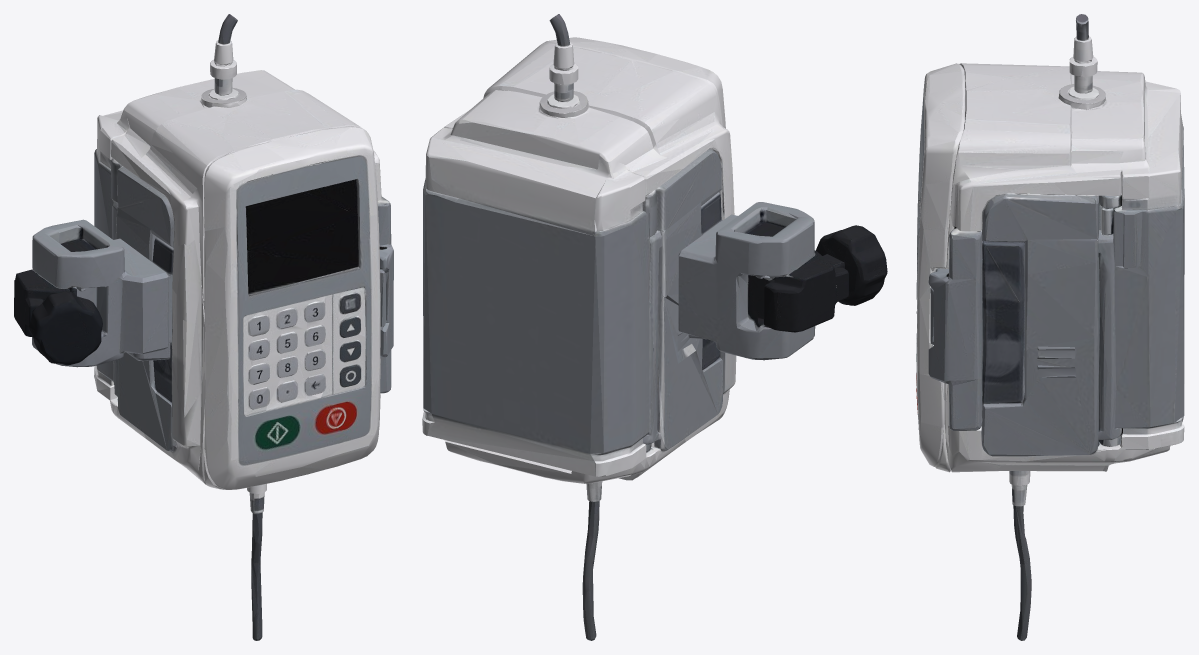
File: infusion_pump.glb
3 views of the same model, side by side, from view 1: azimuth 30°, elevation 25°; view 2: azimuth 150°, elevation 25°; view 3: azimuth 270°, elevation 25° (orthographic). The views are drawn at different scales.
Visible parts, largest first — view 1: output_unwrapped; view 2: output_unwrapped; view 3: output_unwrapped.
Part boxes in pixels (x1,y1,x2,y2): output_unwrapped: (14, 14, 393, 640); output_unwrapped: (422, 14, 887, 640); output_unwrapped: (916, 14, 1184, 640).
Bounding box in the file's own units: 1.15 × 1.9 × 0.7373.
Materials: 1 (1 with a texture image).
